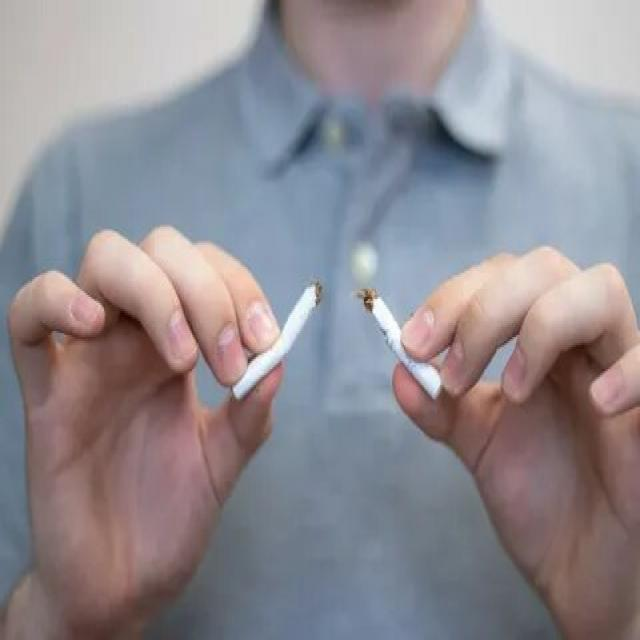smoke: (227, 271, 333, 415), (356, 279, 447, 405)
